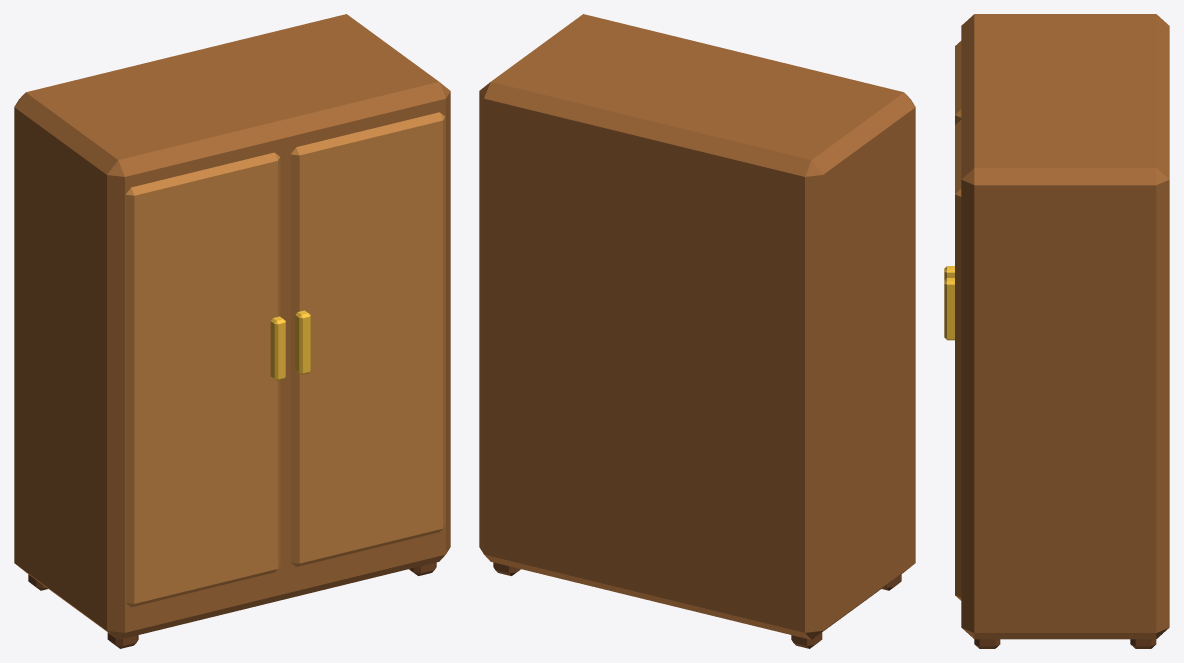
Rendered from Cabinet.fbx.
3 views of the same model, side by side, from view 1: azimuth 30°, elevation 25°; view 2: azimuth 150°, elevation 25°; view 3: azimuth 270°, elevation 25° (orthographic).
Visible parts, largest first — view 1: Cabinet; view 2: Cabinet; view 3: Cabinet.
Part boxes in pixels (x1,y1,x2,y2): Cabinet: [14, 14, 450, 648]; Cabinet: [479, 14, 915, 648]; Cabinet: [944, 14, 1169, 648].
Bounding box in the file's own units: 3 × 4.1 × 1.73.
1 material, 1 textured.
